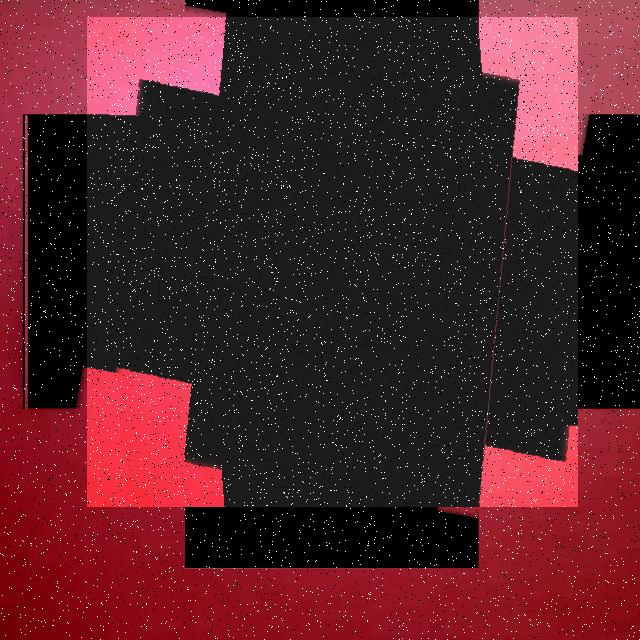lima puluh ribu rupiah: (87, 17, 578, 507)
